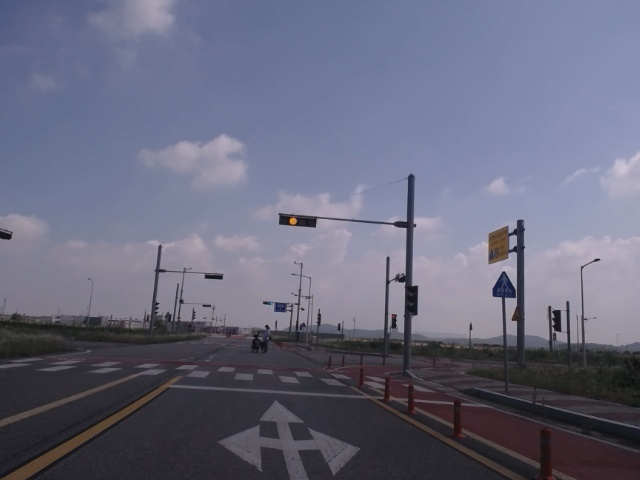orange_4: (280, 214, 317, 228)
